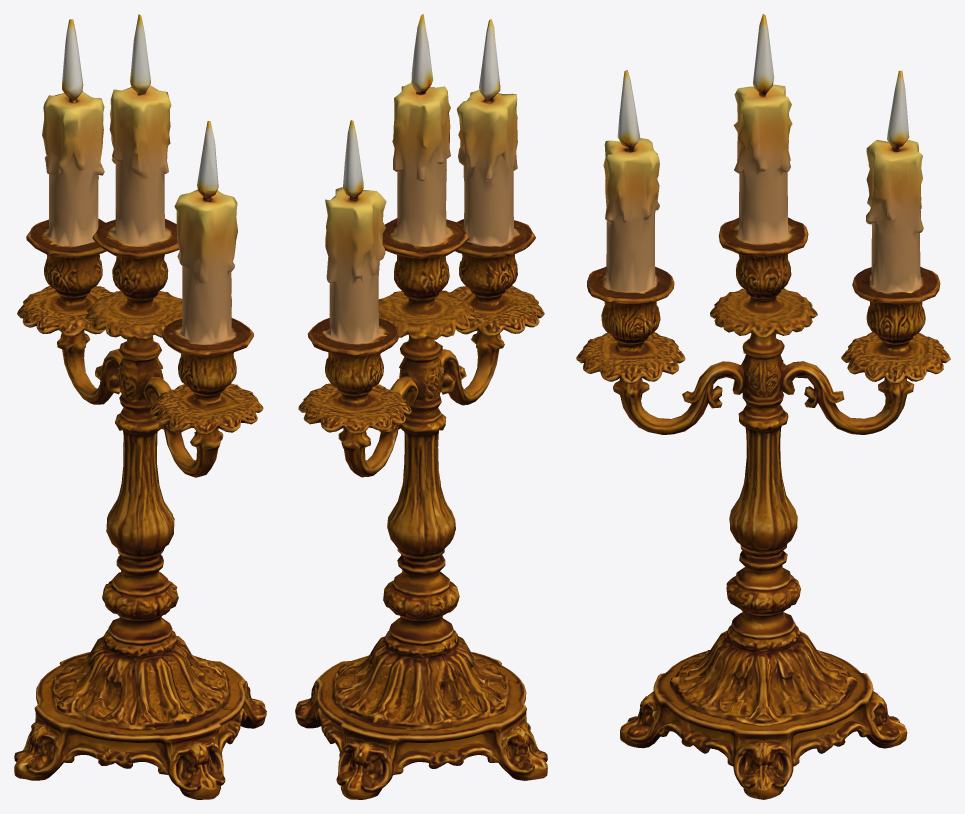
Rendered from candelabra.glb.
3 views of the same model, side by side, from view 1: azimuth 30°, elevation 25°; view 2: azimuth 150°, elevation 25°; view 3: azimuth 270°, elevation 25° (orthographic).
Visible parts, largest first — view 1: tripo_node_df682e78-6574-4568-b6a4-5324dcda1abf; view 2: tripo_node_df682e78-6574-4568-b6a4-5324dcda1abf; view 3: tripo_node_df682e78-6574-4568-b6a4-5324dcda1abf.
Part boxes in pixels (x1,y1,x2,y2): tripo_node_df682e78-6574-4568-b6a4-5324dcda1abf: [14, 14, 266, 799]; tripo_node_df682e78-6574-4568-b6a4-5324dcda1abf: [295, 14, 547, 799]; tripo_node_df682e78-6574-4568-b6a4-5324dcda1abf: [576, 14, 950, 799].
Size of the model in its own units: 0.3562 by 1 by 0.4669.
Materials: 1 (1 with a texture image).
